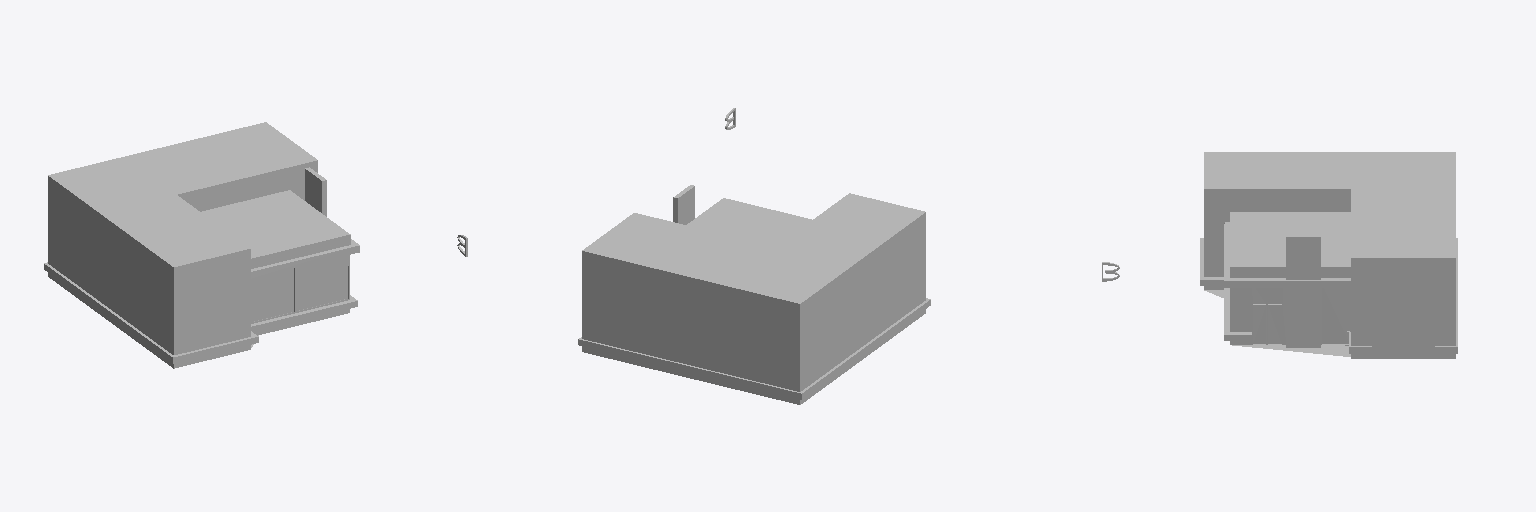
The model's file is Uncle Vanya.obj.
3 renders of one model, left to right at view 1: azimuth 30°, elevation 25°; view 2: azimuth 150°, elevation 25°; view 3: azimuth 270°, elevation 25°, orthographic.
Parts seen in each view (by area): view 1: Cube, red-build; view 2: Cube, red-build; view 3: Cube, red-build.
Part boxes in pixels (left/top/right/bottom): Cube: left=44, top=122, right=359, bottom=368; red-build: left=305, top=167, right=326, bottom=216; Cube: left=578, top=193, right=930, bottom=404; red-build: left=674, top=185, right=694, bottom=224; Cube: left=1200, top=152, right=1457, bottom=358; red-build: left=1286, top=234, right=1320, bottom=347.
Bounding box in the file's own units: 14.7 × 6.34 × 18.45.